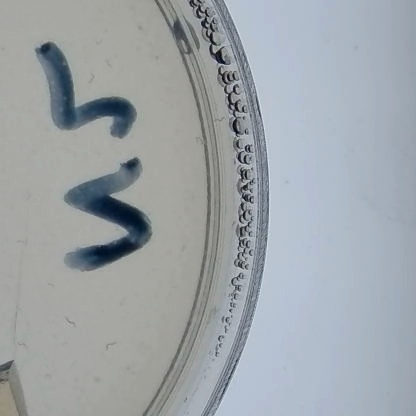worm: (4, 330, 31, 351), (59, 312, 85, 330), (96, 335, 122, 351), (83, 66, 101, 87), (17, 234, 34, 250), (44, 278, 58, 292), (104, 54, 118, 68), (193, 134, 204, 147)
